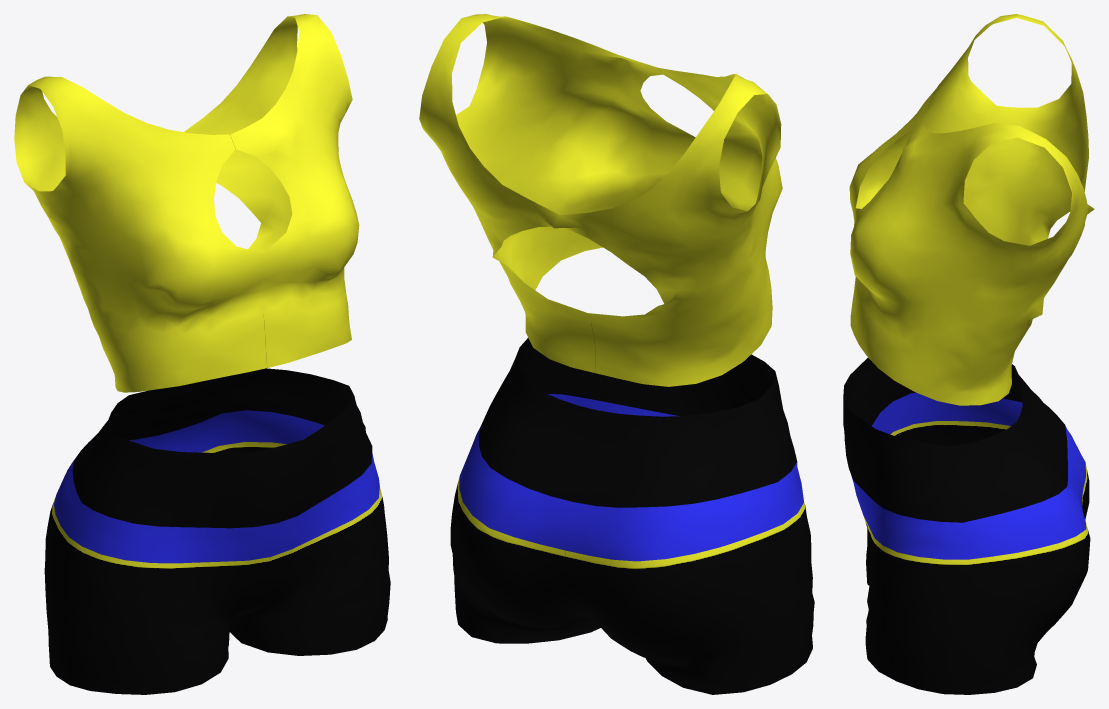
3 renders of one model, left to right at view 1: azimuth 30°, elevation 25°; view 2: azimuth 150°, elevation 25°; view 3: azimuth 270°, elevation 25°, orthographic. The views are drawn at different scales.
Visible parts, largest first — view 1: WhiteGirlUA; view 2: WhiteGirlUA; view 3: WhiteGirlUA.
Part boxes in pixels (left/top/right/bottom): WhiteGirlUA: left=14, top=14, right=390, bottom=694; WhiteGirlUA: left=419, top=14, right=814, bottom=694; WhiteGirlUA: left=843, top=14, right=1094, bottom=694.
Bounding box in the file's own units: 0.3773 × 0.662 × 0.2739.
Materials: 1 (1 with a texture image).
